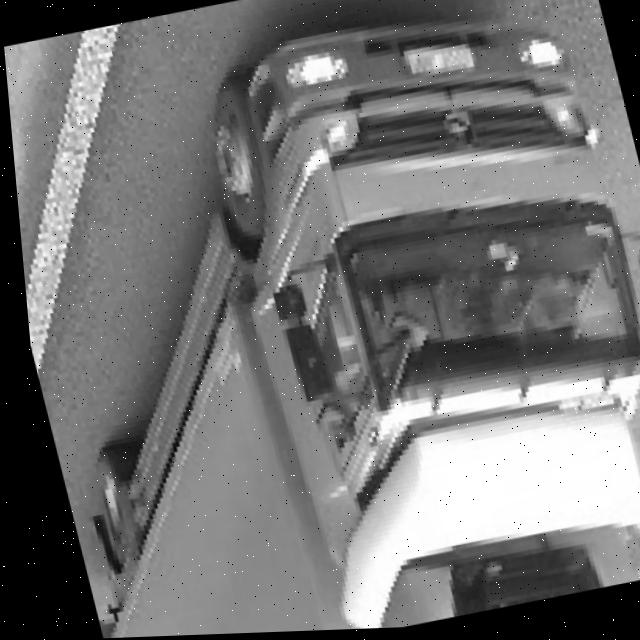truck: (158, 1, 640, 636)
